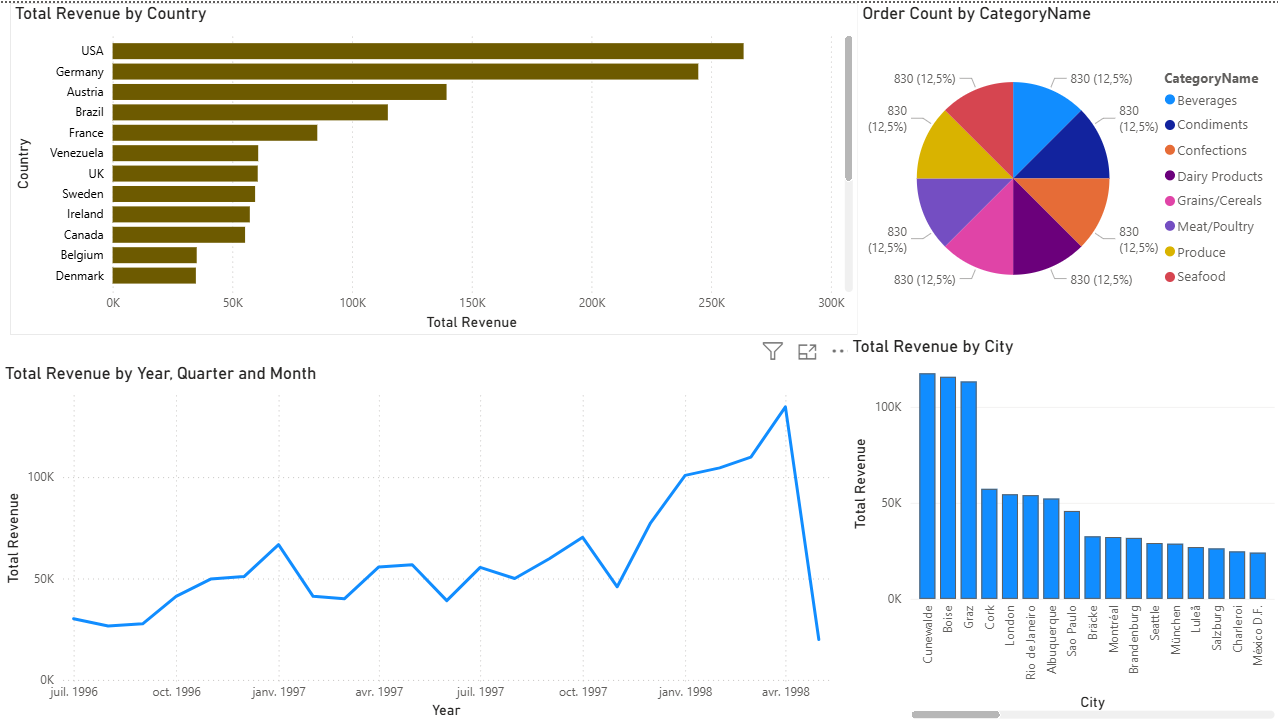

The page's visual inventory and layout, read from the dashboard file:
{"tool":"powerbi","page":{"name":"Page 1","canvas":[1280,720],"ordinal":0},"visuals":[{"type":"barChart","fields":{"Category":["Customers.Country"],"Y":["Order Details.Total Revenue"]},"box":[9.6,0,848,332.1],"z":0},{"type":"lineChart","fields":{"Y":["Order Details.Total Revenue"],"Category":["Orders.OrderDate.Variation.Date Hierarchy.Year","Orders.OrderDate.Variation.Date Hierarchy.Quarter","Orders.OrderDate.Variation.Date Hierarchy.Month"]},"box":[0,359.5,848,360.9],"z":1000},{"type":"pieChart","fields":{"Category":["Categories.CategoryName"],"Y":["Customers.Order Count"]},"box":[857.6,0,422.6,332.1],"z":2000},{"type":"columnChart","fields":{"Y":["Order Details.Total Revenue"],"Category":["Customers.City"]},"box":[848,332.1,432.2,388.3],"z":3000}]}

Visuals, with their boxes in screenshot pixels (x1, y1, x2, y2), scaled from the page's 1280x720 canvas onto the 1278x721 screenshot:
barChart - Customers.Country x Order Details.Total Revenue: [left=10, top=0, right=856, bottom=333]
lineChart - Order Details.Total Revenue x Orders.OrderDate.Variation.Date Hierarchy.Year: [left=0, top=360, right=847, bottom=720]
pieChart - Categories.CategoryName x Customers.Order Count: [left=856, top=0, right=1277, bottom=333]
columnChart - Order Details.Total Revenue x Customers.City: [left=847, top=333, right=1277, bottom=720]
